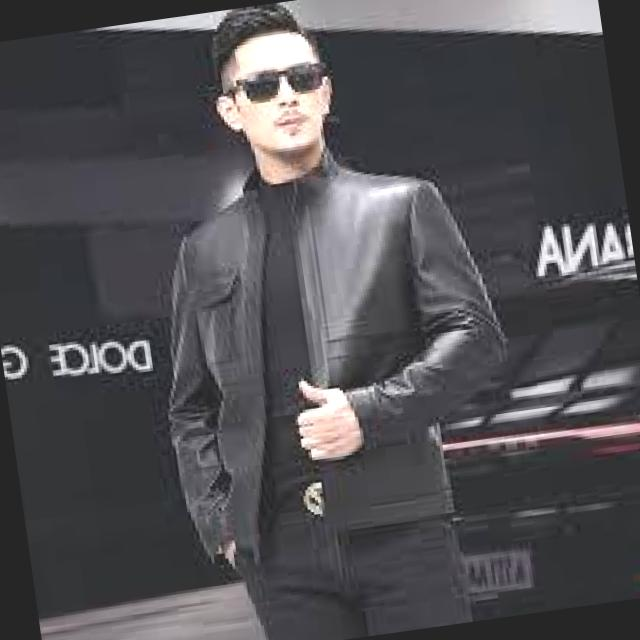jacket: (131, 132, 527, 572)
